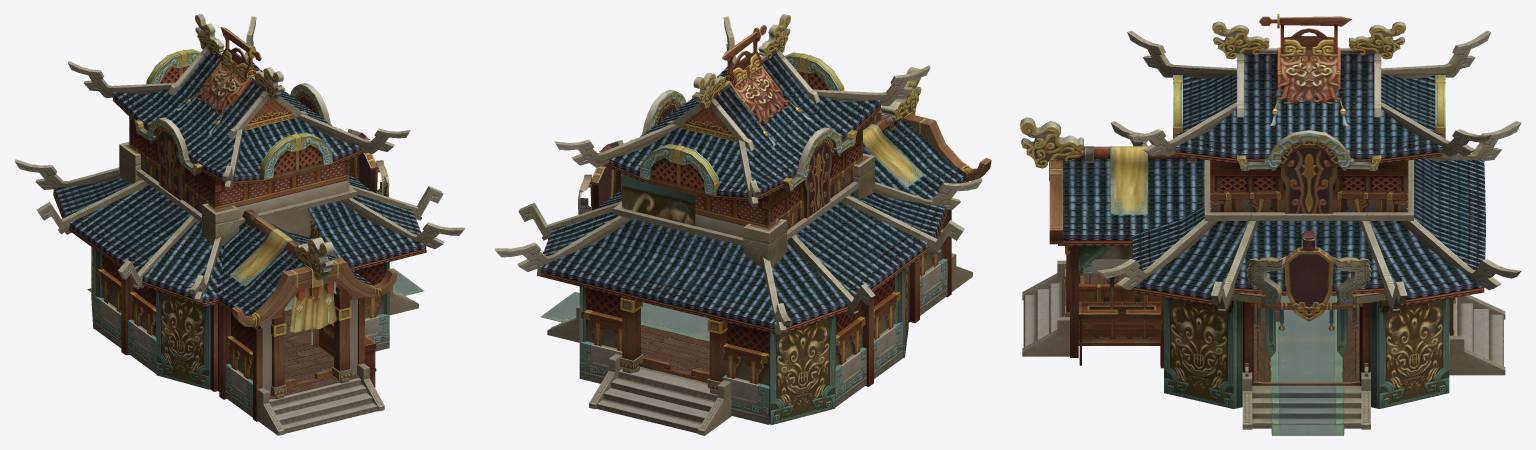
File: cj_luoyang_jianzhu02_54_02_8221out.fbx
3 renders of one model, left to right at view 1: azimuth 30°, elevation 25°; view 2: azimuth 150°, elevation 25°; view 3: azimuth 270°, elevation 25°, orthographic. The views are drawn at different scales.
Parts seen in each view (by area): view 1: cj_luoyang_jianzhu02; view 2: cj_luoyang_jianzhu02; view 3: cj_luoyang_jianzhu02.
Part boxes in pixels (x1=…): cj_luoyang_jianzhu02: x1=14, y1=14, x2=464, y2=435; cj_luoyang_jianzhu02: x1=494, y1=14, x2=991, y2=435; cj_luoyang_jianzhu02: x1=1020, y1=14, x2=1521, y2=435.
Size of the model in its own units: 11.28 by 9.41 by 12.89.
